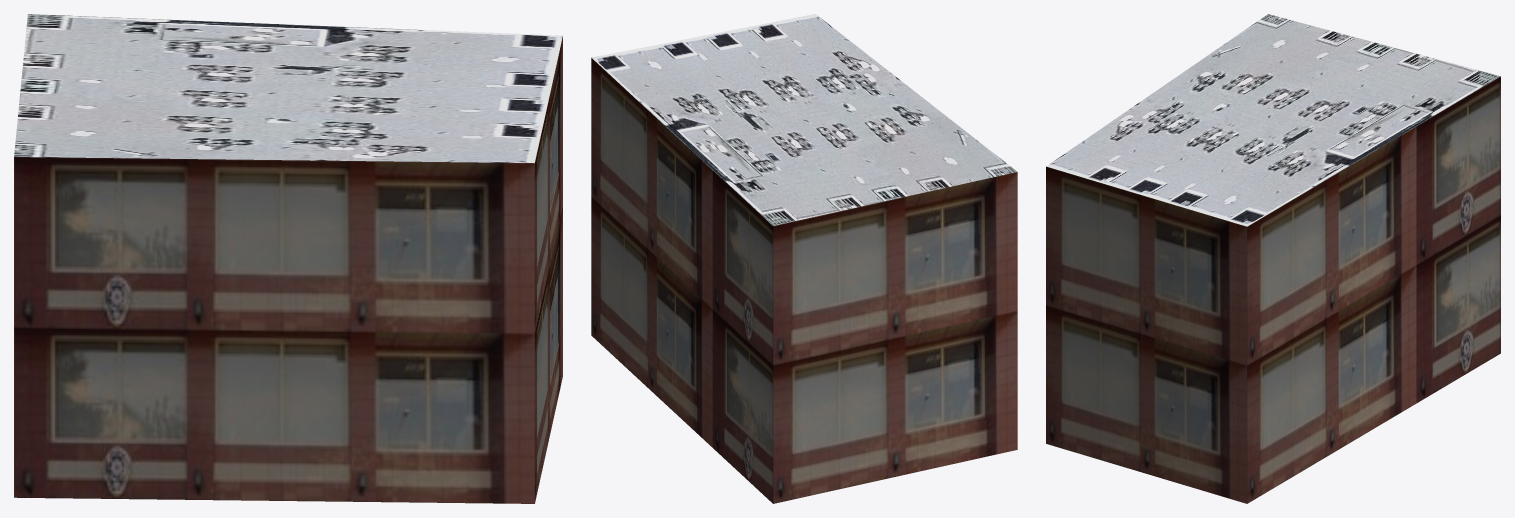
File: ResTex__4940.fbx
The picture shows the model from 3 angles, left to right: view 1: azimuth 30°, elevation 25°; view 2: azimuth 150°, elevation 25°; view 3: azimuth 270°, elevation 25°; orthographic projection. The views are drawn at different scales.
Parts seen in each view (by area): view 1: CityEngineMaterial_13_m, CityEngineMaterial_4_m; view 2: CityEngineMaterial_13_m, CityEngineMaterial_4_m; view 3: CityEngineMaterial_13_m, CityEngineMaterial_4_m.
Boxes of the visible parts, left/top/right/bottom form: CityEngineMaterial_13_m: left=14, top=36, right=562, bottom=503; CityEngineMaterial_4_m: left=14, top=14, right=562, bottom=163; CityEngineMaterial_13_m: left=591, top=58, right=1017, bottom=503; CityEngineMaterial_4_m: left=591, top=14, right=1017, bottom=225; CityEngineMaterial_13_m: left=1046, top=76, right=1500, bottom=503; CityEngineMaterial_4_m: left=1046, top=14, right=1500, bottom=226.
Bounding box in the file's own units: 9.87 × 6 × 8.92.
Materials: 2 (2 with a texture image).
